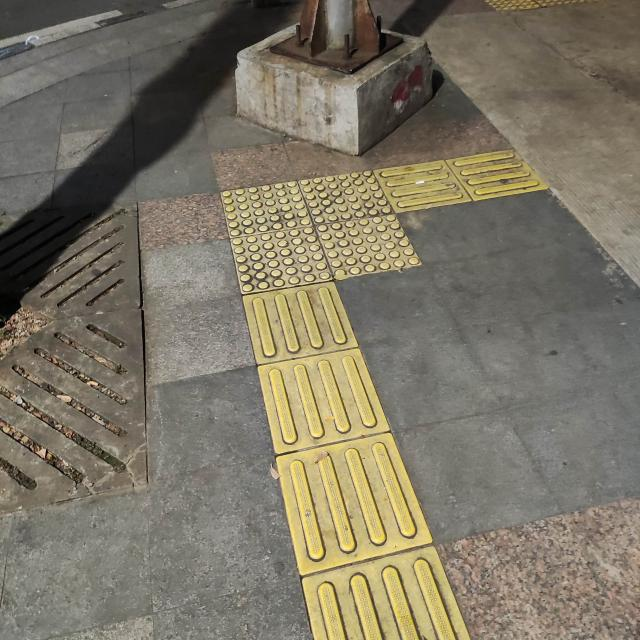kanan: (193, 148, 527, 376)
